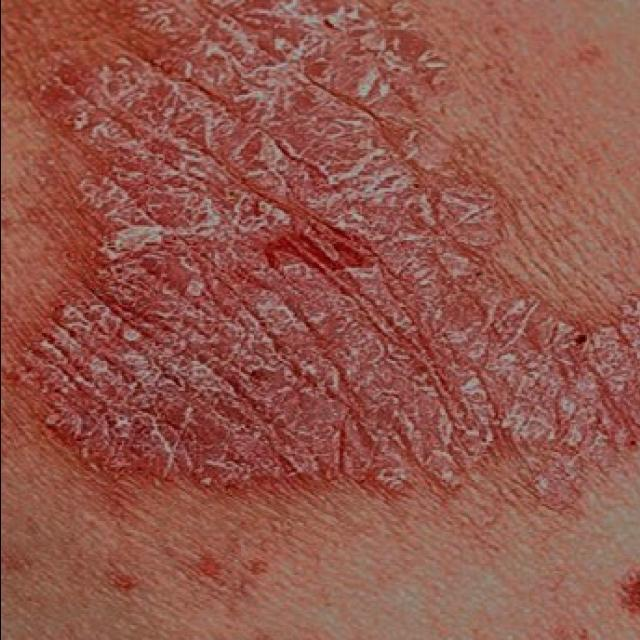Psoriasis: (0, 0, 640, 515), (614, 558, 640, 640)
